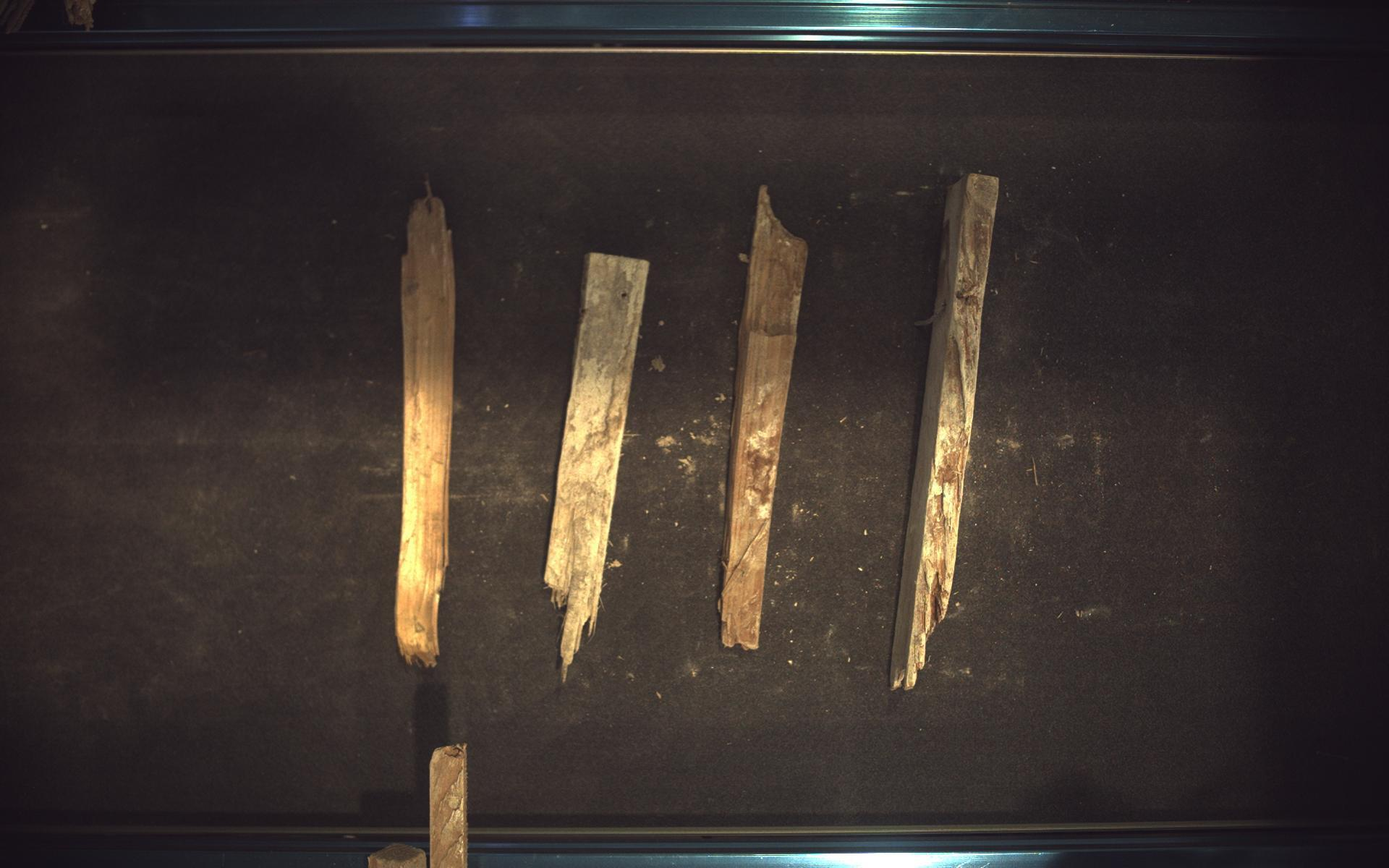wood: (892, 172, 1001, 691), (545, 252, 650, 682), (720, 184, 809, 651), (395, 179, 456, 668)
